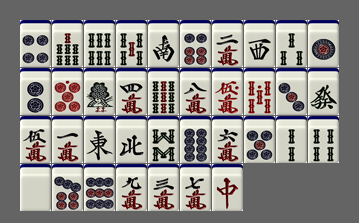0m: (212, 68, 243, 115)
0p: (52, 68, 83, 115)
0s: (244, 68, 275, 115)
1m: (52, 116, 83, 163)
1p: (308, 20, 339, 67)
1s: (84, 68, 115, 115)
1z: (84, 116, 115, 163)
2m: (212, 20, 243, 67)
2p: (20, 68, 51, 115)
2s: (276, 116, 307, 163)
2z: (148, 20, 179, 67)
3m: (148, 164, 179, 211)
3p: (276, 68, 307, 115)
3s: (276, 20, 307, 67)
3z: (244, 20, 275, 67)
4m: (116, 68, 147, 115)
4p: (20, 20, 51, 67)
4s: (308, 116, 339, 163)
4z: (116, 116, 147, 163)
5m: (20, 116, 51, 163)
5p: (244, 116, 275, 163)
5s: (116, 20, 147, 67)
5z: (20, 164, 51, 211)
6m: (212, 116, 243, 163)
6p: (180, 20, 211, 67)
6s: (84, 20, 115, 67)
6z: (308, 68, 339, 115)
7m: (180, 164, 211, 211)
7p: (52, 164, 83, 211)
7s: (52, 20, 83, 67)
7z: (212, 164, 243, 211)
8m: (180, 68, 211, 115)
8p: (180, 116, 211, 163)
8s: (148, 116, 179, 163)
9m: (116, 164, 147, 211)
9p: (84, 164, 115, 211)
9s: (148, 68, 179, 115)
